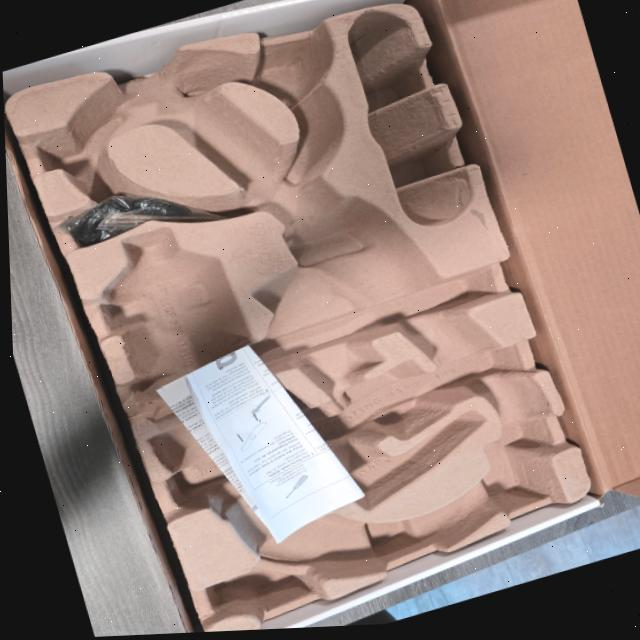1m: (104, 49, 546, 575)
2m: (253, 400, 481, 509)
3m: (102, 226, 258, 414)
4m: (349, 7, 471, 223)
5m: (257, 40, 320, 95)
6m: (38, 106, 123, 170)
7: (55, 196, 225, 248)
8: (156, 343, 365, 544)
